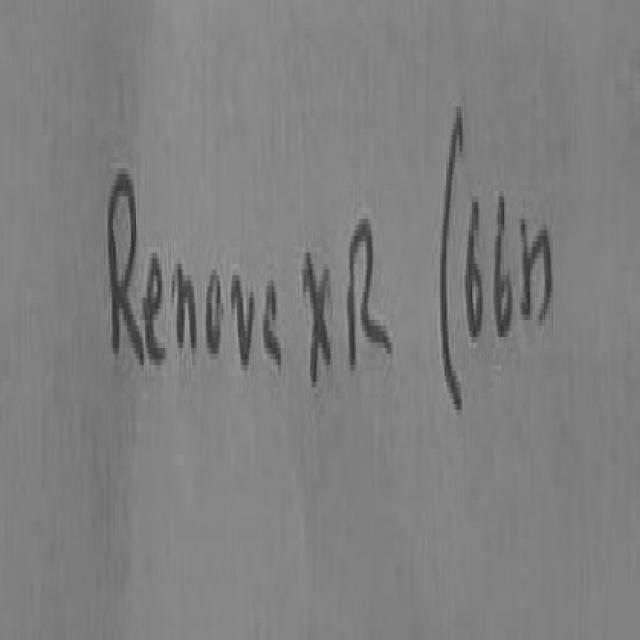6: (495, 196, 513, 337), (466, 202, 484, 334)
R: (108, 174, 144, 362), (350, 219, 393, 362)
X: (304, 253, 331, 379)
a: (264, 281, 281, 362)
e: (144, 253, 165, 359)
n: (522, 219, 553, 320), (173, 264, 196, 348)
o: (205, 269, 221, 351)
v: (233, 275, 254, 362)
